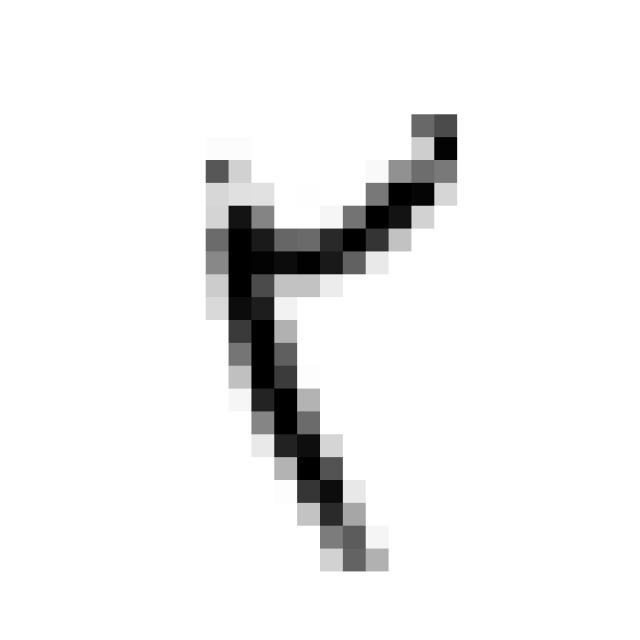3 -three-: (180, 78, 477, 608)
